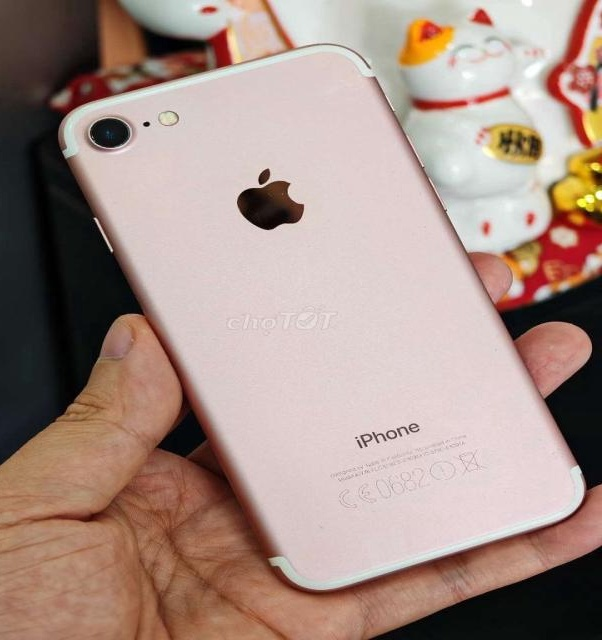scratch: (479, 477, 586, 500), (82, 114, 134, 152), (548, 438, 569, 462), (259, 186, 289, 198), (314, 516, 332, 536), (529, 433, 546, 443)
